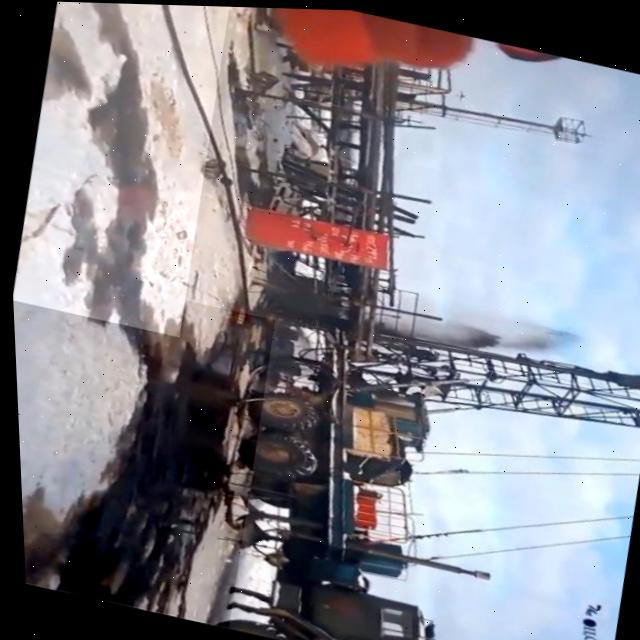spillage: (10, 263, 271, 627), (10, 1, 228, 336)
